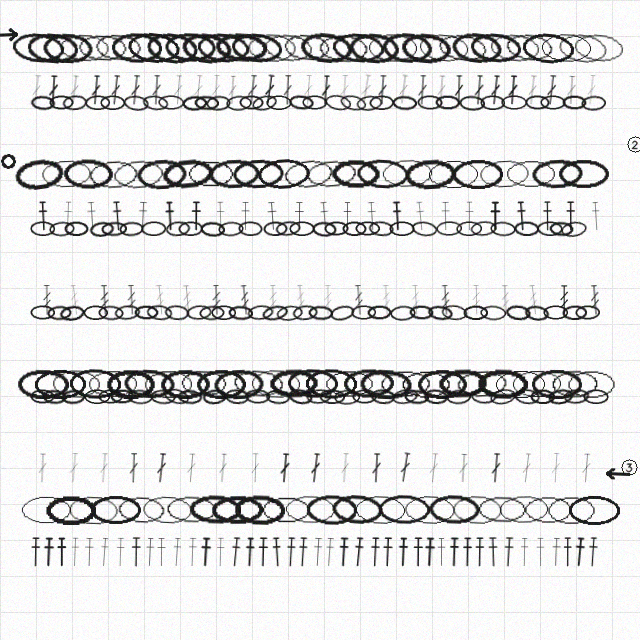chain: (145, 30, 200, 66), (180, 30, 234, 66), (435, 30, 489, 66), (556, 30, 610, 66), (126, 30, 181, 65), (13, 156, 66, 192), (299, 30, 353, 65), (281, 156, 335, 191), (450, 30, 503, 65), (503, 30, 556, 65), (11, 31, 65, 65), (26, 31, 80, 65), (196, 31, 250, 65), (331, 31, 385, 65), (417, 31, 471, 65), (469, 31, 523, 65), (488, 31, 542, 65), (521, 31, 575, 65), (572, 31, 626, 65), (111, 157, 165, 191), (304, 157, 358, 191), (230, 31, 283, 65), (262, 31, 315, 65), (348, 31, 401, 65), (400, 31, 453, 65), (161, 157, 214, 191), (214, 31, 268, 64), (257, 157, 311, 190), (231, 367, 285, 400), (381, 31, 434, 64), (281, 31, 333, 64), (331, 493, 383, 526), (58, 32, 111, 64), (208, 158, 261, 190), (232, 158, 285, 190), (356, 158, 409, 190), (478, 158, 531, 190), (123, 368, 176, 400), (359, 368, 412, 400), (455, 368, 508, 400), (67, 494, 120, 526), (93, 31, 144, 64), (403, 494, 457, 525), (42, 32, 94, 64), (76, 32, 128, 64), (317, 32, 369, 64), (40, 158, 92, 190), (87, 158, 139, 190), (136, 158, 188, 190), (404, 158, 456, 190), (531, 158, 583, 190), (213, 368, 265, 400), (141, 494, 193, 526), (164, 32, 217, 63), (540, 32, 593, 63), (305, 368, 358, 399), (451, 494, 504, 525), (116, 494, 167, 526), (381, 158, 433, 189), (69, 368, 121, 399), (250, 368, 302, 399), (343, 368, 395, 399), (165, 494, 217, 525), (189, 494, 241, 525), (284, 494, 336, 525), (354, 494, 406, 525), (378, 494, 430, 525), (428, 494, 480, 525), (498, 494, 550, 525), (427, 159, 480, 189), (111, 32, 162, 63), (246, 32, 297, 63), (367, 32, 418, 63), (63, 158, 114, 189), (51, 368, 102, 399), (287, 368, 338, 399), (477, 368, 528, 399), (234, 494, 285, 525), (306, 494, 357, 525), (476, 494, 527, 525), (505, 159, 557, 189), (558, 159, 610, 189), (17, 369, 69, 399), (34, 369, 86, 399), (379, 369, 431, 399), (494, 369, 546, 399), (511, 369, 563, 399), (531, 369, 583, 399), (20, 495, 72, 525), (90, 495, 142, 525), (211, 495, 263, 525), (568, 495, 620, 525), (179, 368, 229, 399), (269, 368, 319, 399), (438, 368, 488, 399), (550, 368, 600, 399), (452, 159, 503, 189), (87, 369, 138, 399), (160, 369, 211, 399), (324, 369, 375, 399), (400, 369, 451, 399), (417, 369, 468, 399), (566, 369, 617, 399), (45, 495, 96, 525), (260, 495, 311, 525), (523, 495, 574, 525), (546, 495, 597, 525), (186, 159, 236, 189), (331, 159, 381, 189), (106, 369, 156, 399), (143, 369, 193, 399), (196, 369, 246, 399), (162, 386, 191, 407), (339, 93, 367, 113), (261, 303, 289, 323), (251, 93, 278, 113), (329, 303, 356, 323), (324, 93, 352, 112), (391, 387, 419, 406), (489, 387, 517, 406), (287, 387, 314, 406), (547, 387, 574, 406), (560, 220, 588, 238), (142, 94, 169, 112), (356, 94, 383, 112), (411, 220, 438, 238), (276, 304, 303, 322), (123, 94, 149, 112), (89, 220, 115, 238), (59, 304, 85, 322), (427, 304, 453, 322), (524, 304, 550, 322), (470, 220, 497, 237), (114, 304, 141, 321), (146, 304, 173, 321), (247, 304, 274, 321), (441, 304, 468, 321), (470, 388, 497, 405), (563, 388, 590, 405), (62, 94, 88, 111), (288, 94, 314, 111), (165, 220, 191, 237), (275, 220, 301, 237), (368, 220, 394, 237), (164, 304, 190, 321), (186, 304, 212, 321), (292, 304, 318, 321), (505, 304, 531, 321), (202, 388, 228, 405), (224, 388, 250, 405), (306, 388, 332, 405), (370, 388, 396, 405), (423, 388, 449, 405), (514, 388, 540, 405), (30, 95, 56, 111), (226, 95, 252, 111), (459, 95, 485, 111), (49, 221, 75, 237), (101, 221, 127, 237), (218, 221, 244, 237), (490, 221, 516, 237), (98, 305, 124, 321), (199, 305, 225, 321), (390, 305, 416, 321), (480, 305, 506, 321), (127, 389, 153, 405), (150, 389, 176, 405), (177, 389, 203, 405), (265, 389, 291, 405), (334, 389, 360, 405), (182, 95, 207, 111), (194, 95, 219, 111), (206, 95, 231, 111), (392, 95, 417, 111), (581, 95, 606, 111), (119, 221, 144, 237), (200, 221, 225, 237), (312, 221, 337, 237), (549, 221, 574, 237), (47, 305, 72, 321), (228, 305, 253, 321), (308, 305, 333, 321), (42, 389, 67, 405), (61, 389, 86, 405), (404, 389, 429, 405), (446, 389, 471, 405), (158, 95, 184, 110), (266, 95, 292, 110), (417, 95, 443, 110), (501, 95, 527, 110), (540, 95, 566, 110), (289, 221, 315, 236), (389, 221, 415, 236), (436, 221, 462, 236), (456, 221, 482, 236), (537, 221, 563, 236), (84, 389, 110, 404), (319, 389, 345, 404), (583, 389, 609, 404), (49, 95, 74, 110), (85, 95, 110, 110), (100, 95, 125, 110), (239, 95, 264, 110), (302, 95, 327, 110), (369, 95, 394, 110), (435, 95, 460, 110), (480, 95, 505, 110), (525, 95, 550, 110), (562, 95, 587, 110), (30, 221, 55, 236), (64, 221, 89, 236), (141, 221, 166, 236), (178, 221, 203, 236), (238, 221, 263, 236), (263, 221, 288, 236), (324, 221, 349, 236), (342, 221, 367, 236), (355, 221, 380, 236), (514, 221, 539, 236), (30, 305, 55, 320), (83, 305, 108, 320), (134, 305, 159, 320), (211, 305, 236, 320), (351, 305, 376, 320), (367, 305, 392, 320), (409, 305, 434, 320), (463, 305, 488, 320), (543, 305, 568, 320), (562, 305, 587, 320), (575, 305, 600, 320), (30, 389, 55, 404), (98, 389, 123, 404), (110, 389, 135, 404), (245, 389, 270, 404), (352, 389, 377, 404), (530, 389, 555, 404)
double: (359, 74, 373, 105), (398, 452, 412, 483), (263, 74, 276, 105), (397, 74, 410, 105), (30, 75, 43, 105), (68, 75, 81, 105), (109, 75, 122, 105), (129, 75, 142, 105), (246, 75, 259, 105), (489, 75, 502, 105), (526, 75, 539, 105), (545, 75, 558, 105), (585, 75, 598, 105), (155, 453, 168, 483), (309, 453, 322, 483), (427, 453, 440, 483), (520, 453, 533, 483), (90, 75, 102, 105), (172, 75, 184, 105), (192, 75, 204, 105), (210, 75, 222, 105), (302, 75, 314, 105), (320, 75, 332, 105), (473, 75, 485, 105), (507, 75, 519, 105), (68, 453, 80, 483), (98, 453, 110, 483), (185, 453, 197, 483), (217, 453, 229, 483), (279, 453, 291, 483), (339, 453, 351, 483), (490, 453, 502, 483), (580, 453, 592, 483), (48, 75, 59, 105), (151, 75, 162, 105), (227, 75, 238, 105), (282, 75, 293, 105), (339, 75, 350, 105), (377, 75, 388, 105), (417, 75, 428, 105), (436, 75, 447, 105), (566, 75, 577, 105), (37, 453, 48, 483), (128, 453, 139, 483), (371, 453, 382, 483), (458, 453, 469, 483), (550, 453, 561, 483), (454, 75, 464, 105), (250, 453, 260, 483)
half_double: (265, 201, 279, 231), (85, 201, 98, 231), (111, 201, 124, 231), (136, 201, 149, 231), (318, 201, 331, 231), (414, 201, 427, 231), (515, 201, 528, 231), (42, 537, 55, 567), (98, 537, 111, 567), (199, 537, 212, 567), (229, 537, 242, 567), (311, 537, 324, 567), (323, 537, 336, 567), (337, 537, 350, 567), (352, 537, 365, 567), (381, 537, 394, 567), (423, 537, 436, 567), (502, 537, 515, 567), (573, 537, 586, 567), (37, 201, 49, 231), (62, 201, 74, 231), (164, 201, 176, 231), (190, 201, 202, 231), (293, 201, 305, 231), (366, 201, 378, 231), (391, 201, 403, 231), (489, 201, 501, 231), (590, 201, 602, 231), (69, 537, 81, 567), (83, 537, 95, 567), (130, 537, 142, 567), (144, 537, 156, 567), (171, 537, 183, 567), (244, 537, 256, 567), (257, 537, 269, 567), (271, 537, 283, 567), (285, 537, 297, 567), (297, 537, 309, 567), (369, 537, 381, 567), (397, 537, 409, 567), (412, 537, 424, 567), (448, 537, 460, 567), (487, 537, 499, 567), (550, 537, 562, 567), (587, 537, 599, 567), (215, 201, 226, 231), (240, 201, 251, 231), (342, 201, 353, 231), (440, 201, 451, 231), (464, 201, 475, 231), (542, 201, 553, 231), (565, 201, 576, 231), (30, 537, 41, 567), (56, 537, 67, 567), (115, 537, 126, 567), (156, 537, 167, 567), (187, 537, 198, 567), (215, 537, 226, 567), (436, 537, 447, 567), (462, 537, 473, 567), (474, 537, 485, 567), (519, 537, 530, 567), (535, 537, 546, 567), (562, 537, 573, 567)
noise: (619, 457, 640, 478), (0, 152, 18, 171), (603, 468, 631, 480), (625, 134, 640, 154), (0, 28, 20, 42)
treble: (68, 285, 81, 315), (527, 285, 540, 315), (154, 285, 166, 315), (181, 285, 193, 315), (239, 285, 251, 315), (295, 285, 307, 315), (353, 285, 365, 315), (589, 285, 601, 315), (99, 285, 110, 315), (126, 285, 137, 315), (211, 285, 222, 315), (381, 285, 392, 315), (410, 285, 421, 315), (440, 285, 451, 315), (500, 285, 511, 315), (42, 285, 52, 315), (268, 285, 278, 315), (323, 285, 333, 315), (471, 285, 481, 315), (559, 285, 569, 315)
